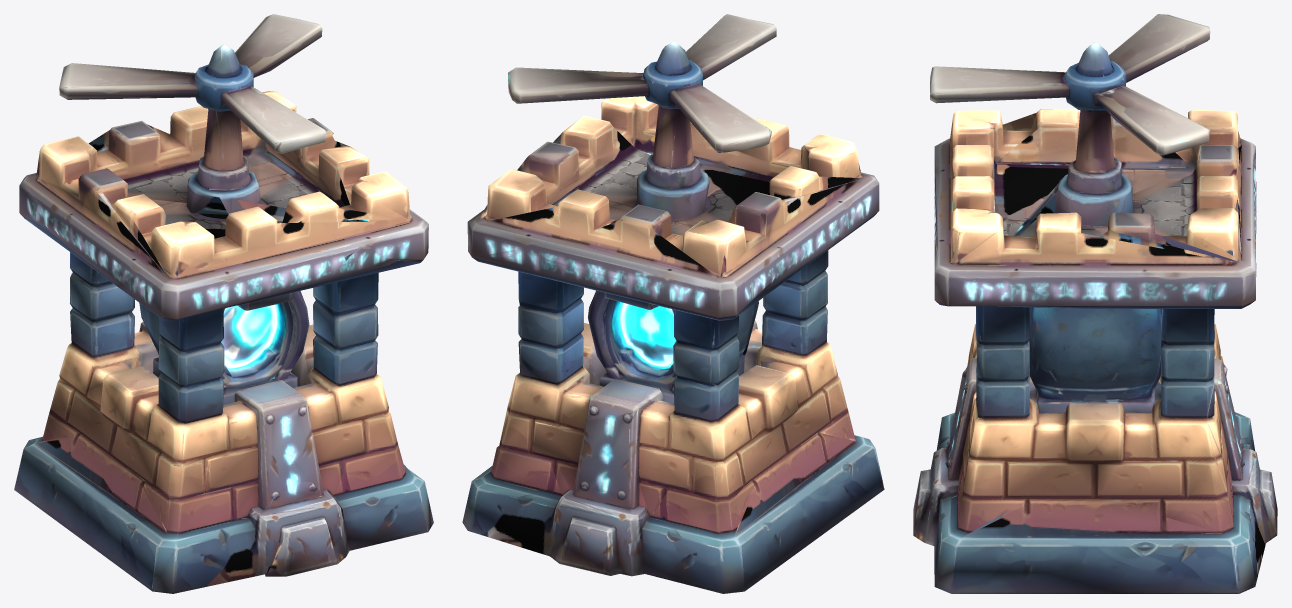
File: Meshy_AI_게임에서_배치할_0608200250_texture.fbx
3 renders of one model, left to right at view 1: azimuth 30°, elevation 25°; view 2: azimuth 150°, elevation 25°; view 3: azimuth 270°, elevation 25°, orthographic. The views are drawn at different scales.
Visible parts, largest first — view 1: Mesh1.0; view 2: Mesh1.0; view 3: Mesh1.0.
Part boxes in pixels (x1,y1,x2,y2): Mesh1.0: (14, 14, 433, 593); Mesh1.0: (462, 14, 884, 593); Mesh1.0: (913, 14, 1277, 593).
Bounding box in the file's own units: 122 × 191 × 131.
Materials: 1 (1 with a texture image).
